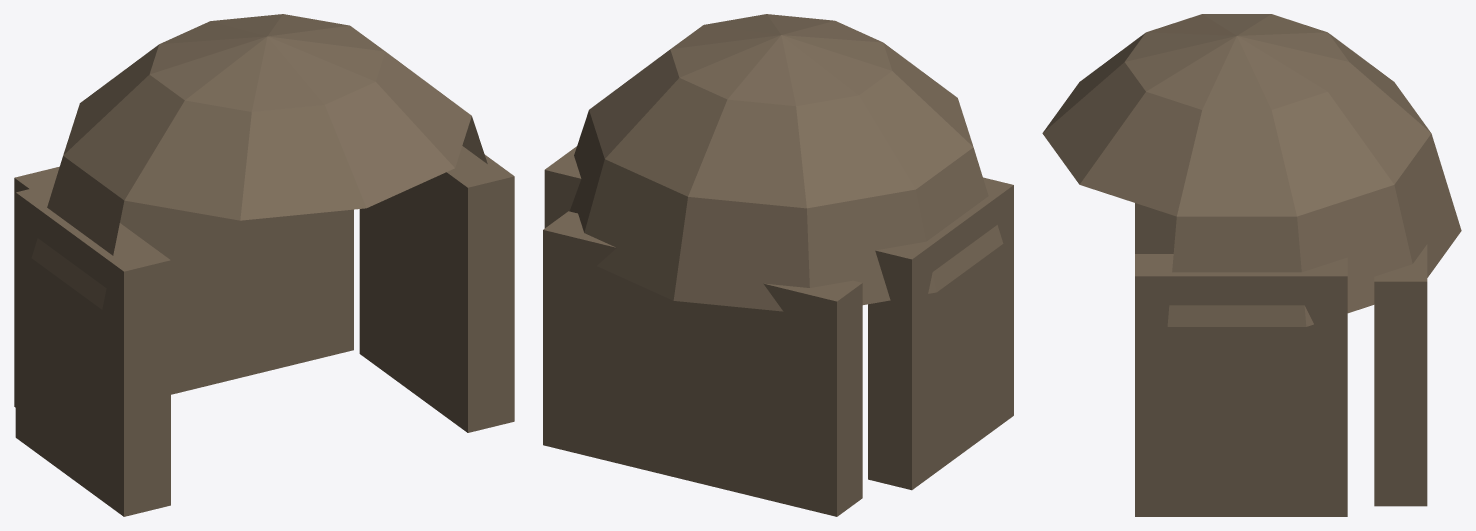
File: straight.glb
3 views of the same model, side by side, from view 1: azimuth 30°, elevation 25°; view 2: azimuth 150°, elevation 25°; view 3: azimuth 270°, elevation 25° (orthographic). The views are drawn at different scales.
Parts seen in each view (by area): view 1: cap, box, box.001, box.002; view 2: cap, box.002, box, box.001; view 3: cap, box.001, box.002, box.
Boxes of the visible parts, left/top/right/bottom form: cap: left=31, top=14, right=487, bottom=309; box: left=15, top=183, right=170, bottom=516; box.001: left=359, top=146, right=514, bottom=432; box.002: left=14, top=166, right=353, bottom=407; cap: left=569, top=14, right=1003, bottom=311; box.002: left=543, top=211, right=862, bottom=516; box: left=868, top=177, right=1013, bottom=490; box.001: left=544, top=146, right=581, bottom=228; cap: left=1042, top=14, right=1461, bottom=326; box.001: left=1135, top=254, right=1347, bottom=516; box.002: left=1374, top=244, right=1427, bottom=506; box: left=1135, top=203, right=1176, bottom=253.
Bounding box in the file's own units: 0.5136 × 0.493 × 0.4736.
